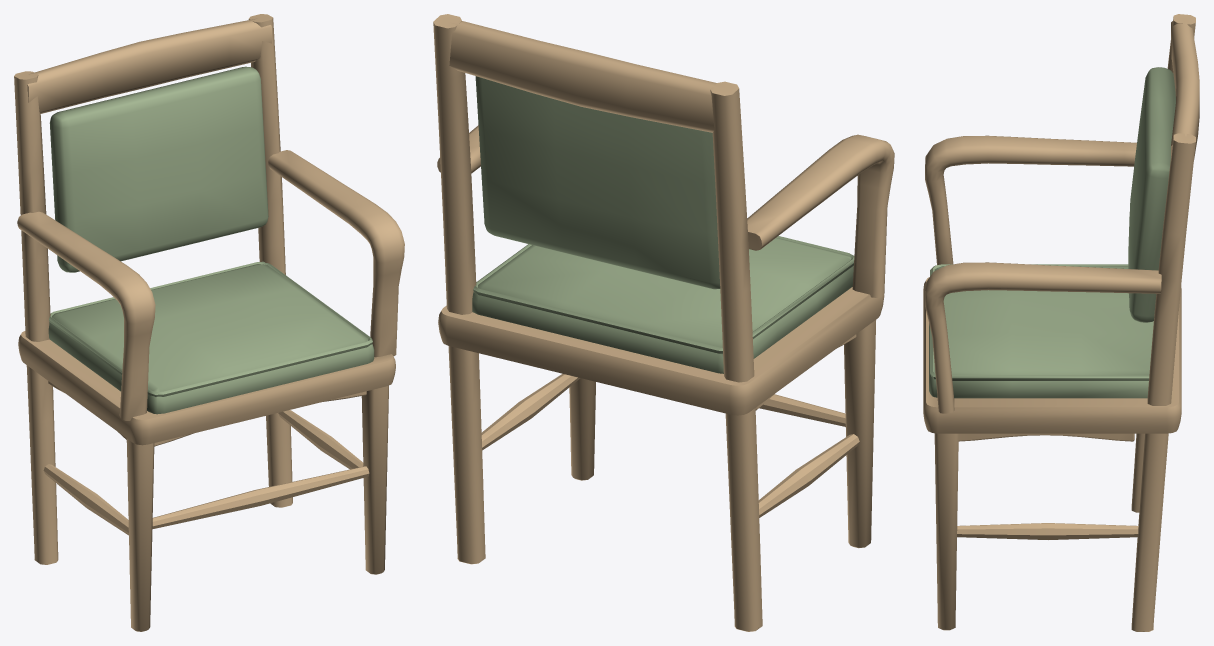
File: chairArm.glb
3 views of the same model, side by side, from view 1: azimuth 30°, elevation 25°; view 2: azimuth 150°, elevation 25°; view 3: azimuth 270°, elevation 25° (orthographic). The views are drawn at different scales.
Visible parts, largest first — view 1: chairArm; view 2: chairArm; view 3: chairArm.
Boxes of the visible parts, <box> form: chairArm: <box>14,14,404,631</box>; chairArm: <box>433,14,894,631</box>; chairArm: <box>923,14,1199,631</box>.
Size of the model in its own units: 0.5738 by 0.922 by 0.4706.
